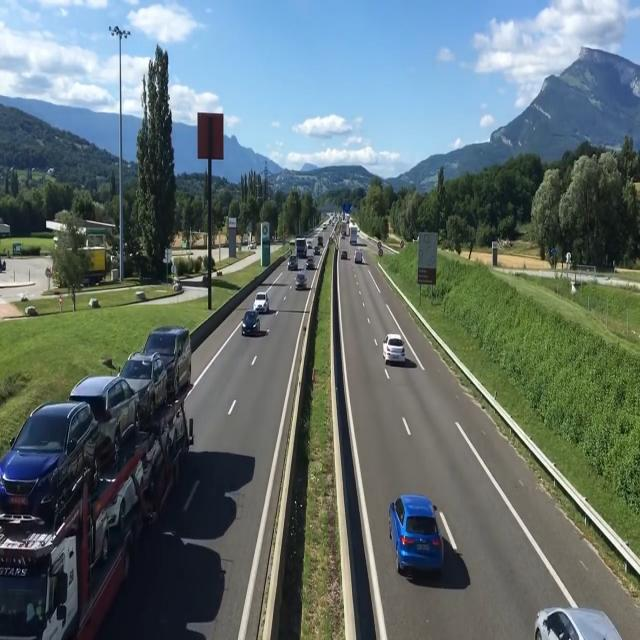car: (386, 487, 466, 595), (384, 333, 411, 371), (241, 305, 261, 341), (254, 291, 270, 311), (294, 272, 308, 293), (286, 253, 298, 270), (353, 248, 363, 264), (306, 258, 316, 270)
truck: (0, 440, 118, 640), (348, 224, 359, 246)
